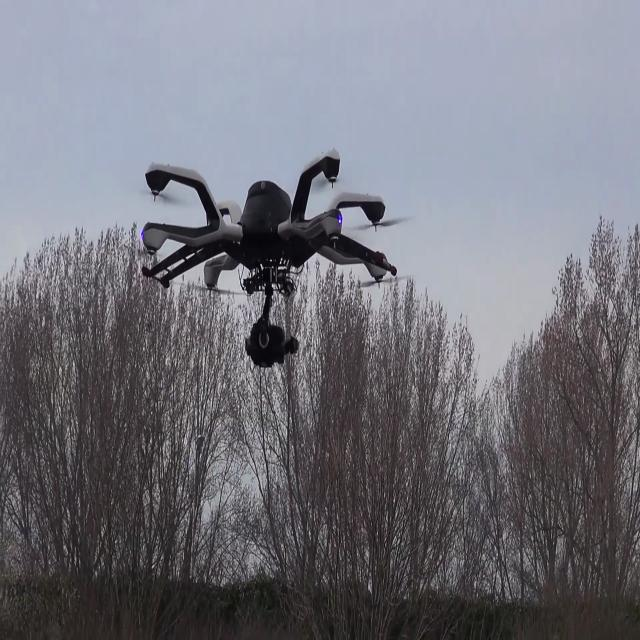drone: (124, 92, 431, 445)
